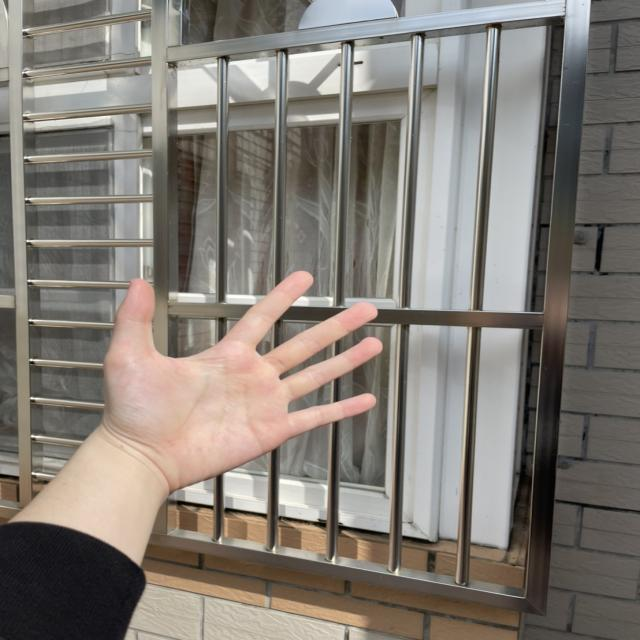hand: (87, 260, 404, 503)
